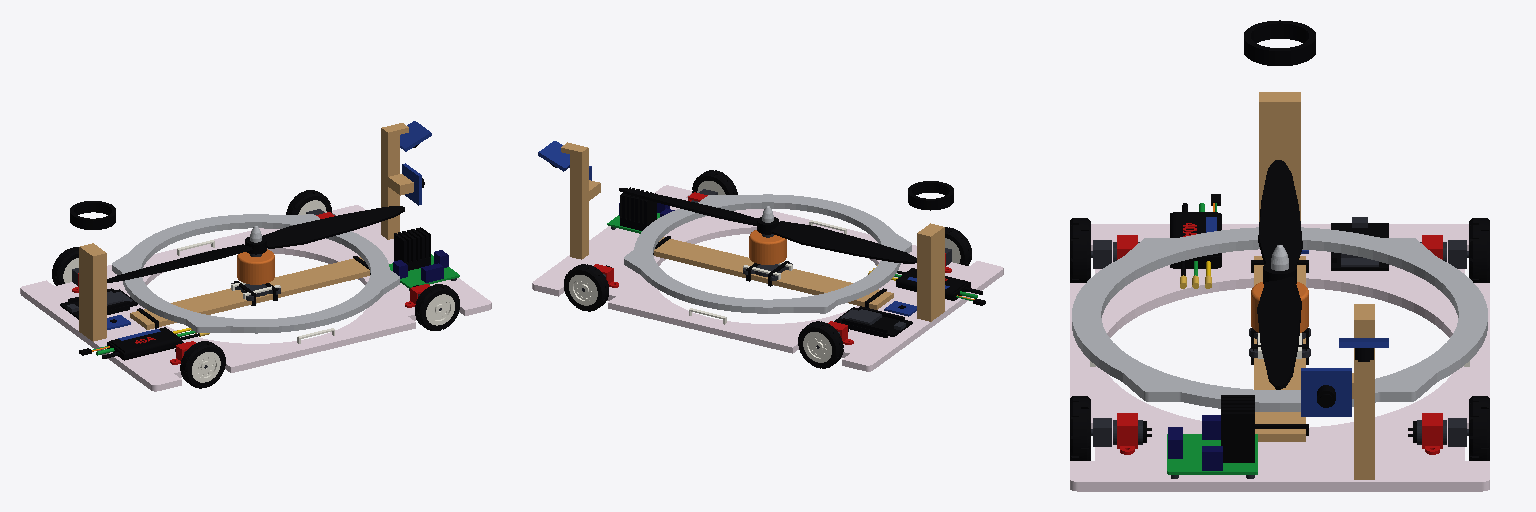
URDF robot description (wcr):
<?xml version="1.0"?>
<!-- Generated by tools/build_proto_webots.py: the WCR prototype (base_link = wall contact plane). Visual only; physics lives in webots/protos/WcrProto.proto. -->
<robot name="wcr">
<material name="c_ef_e0_ea"><color rgba="0.940 0.880 0.920 1"/></material>
<material name="c_c6_9e_6b"><color rgba="0.780 0.620 0.420 1"/></material>
<material name="c_b7_ba_bf"><color rgba="0.720 0.730 0.750 1"/></material>
<material name="c_33_35_3d"><color rgba="0.200 0.210 0.240 1"/></material>
<material name="c_cc_72_33"><color rgba="0.800 0.450 0.200 1"/></material>
<material name="c_0f_0f_11"><color rgba="0.060 0.060 0.070 1"/></material>
<material name="c_ed_ea_e0"><color rgba="0.930 0.920 0.880 1"/></material>
<material name="c_bf_19_19"><color rgba="0.750 0.100 0.100 1"/></material>
<material name="c_19_99_3f"><color rgba="0.100 0.600 0.250 1"/></material>
<material name="c_19_19_59"><color rgba="0.100 0.100 0.350 1"/></material>
<material name="c_26_3f_8c"><color rgba="0.150 0.250 0.550 1"/></material>
<material name="c_d8_b2_4c"><color rgba="0.850 0.700 0.300 1"/></material>
<material name="c_e5_bf_19"><color rgba="0.900 0.750 0.100 1"/></material>
<material name="c_66_3f_1e"><color rgba="0.400 0.250 0.120 1"/></material>
<material name="c_f2_7f_19"><color rgba="0.950 0.500 0.100 1"/></material>
<material name="c_11_11_14"><color rgba="0.070 0.070 0.080 1"/></material>
<link name="base_link"><visual><origin xyz="0 0 0.00750" rpy="0 0 0"/><geometry><mesh filename="package://wcr_proto/meshes/body_0.stl" scale="0.001 0.001 0.001"/></geometry><material name="c_ef_e0_ea"/></visual><visual><origin xyz="0 0 0.00750" rpy="0 0 0"/><geometry><mesh filename="package://wcr_proto/meshes/body_1.stl" scale="0.001 0.001 0.001"/></geometry><material name="c_c6_9e_6b"/></visual><visual><origin xyz="0 0 0.00750" rpy="0 0 0"/><geometry><mesh filename="package://wcr_proto/meshes/body_2.stl" scale="0.001 0.001 0.001"/></geometry><material name="c_b7_ba_bf"/></visual><visual><origin xyz="0 0 0.00750" rpy="0 0 0"/><geometry><mesh filename="package://wcr_proto/meshes/body_3.stl" scale="0.001 0.001 0.001"/></geometry><material name="c_33_35_3d"/></visual><visual><origin xyz="0 0 0.00750" rpy="0 0 0"/><geometry><mesh filename="package://wcr_proto/meshes/body_4.stl" scale="0.001 0.001 0.001"/></geometry><material name="c_cc_72_33"/></visual><visual><origin xyz="0 0 0.00750" rpy="0 0 0"/><geometry><mesh filename="package://wcr_proto/meshes/body_5.stl" scale="0.001 0.001 0.001"/></geometry><material name="c_0f_0f_11"/></visual><visual><origin xyz="0 0 0.00750" rpy="0 0 0"/><geometry><mesh filename="package://wcr_proto/meshes/body_6.stl" scale="0.001 0.001 0.001"/></geometry><material name="c_ed_ea_e0"/></visual><visual><origin xyz="0 0 0.00750" rpy="0 0 0"/><geometry><mesh filename="package://wcr_proto/meshes/body_7.stl" scale="0.001 0.001 0.001"/></geometry><material name="c_bf_19_19"/></visual><visual><origin xyz="0 0 0.00750" rpy="0 0 0"/><geometry><mesh filename="package://wcr_proto/meshes/body_8.stl" scale="0.001 0.001 0.001"/></geometry><material name="c_19_99_3f"/></visual><visual><origin xyz="0 0 0.00750" rpy="0 0 0"/><geometry><mesh filename="package://wcr_proto/meshes/body_9.stl" scale="0.001 0.001 0.001"/></geometry><material name="c_19_19_59"/></visual><visual><origin xyz="0 0 0.00750" rpy="0 0 0"/><geometry><mesh filename="package://wcr_proto/meshes/body_10.stl" scale="0.001 0.001 0.001"/></geometry><material name="c_26_3f_8c"/></visual><visual><origin xyz="0 0 0.00750" rpy="0 0 0"/><geometry><mesh filename="package://wcr_proto/meshes/body_11.stl" scale="0.001 0.001 0.001"/></geometry><material name="c_d8_b2_4c"/></visual><visual><origin xyz="0 0 0.00750" rpy="0 0 0"/><geometry><mesh filename="package://wcr_proto/meshes/body_12.stl" scale="0.001 0.001 0.001"/></geometry><material name="c_e5_bf_19"/></visual><visual><origin xyz="0 0 0.00750" rpy="0 0 0"/><geometry><mesh filename="package://wcr_proto/meshes/body_13.stl" scale="0.001 0.001 0.001"/></geometry><material name="c_66_3f_1e"/></visual><visual><origin xyz="0 0 0.00750" rpy="0 0 0"/><geometry><mesh filename="package://wcr_proto/meshes/body_14.stl" scale="0.001 0.001 0.001"/></geometry><material name="c_f2_7f_19"/></visual></link>
<link name="prop_link"><visual><origin xyz="0 0 0" rpy="0 0 0"/><geometry><mesh filename="package://wcr_proto/meshes/prop_0.stl" scale="0.001 0.001 0.001"/></geometry><material name="c_0f_0f_11"/></visual><visual><origin xyz="0 0 0" rpy="0 0 0"/><geometry><mesh filename="package://wcr_proto/meshes/prop_1.stl" scale="0.001 0.001 0.001"/></geometry><material name="c_b7_ba_bf"/></visual></link>
<joint name="prop_joint" type="continuous"><parent link="base_link"/><child link="prop_link"/><origin xyz="0.00000 0.00000 0.05350" rpy="0.00000 0.00000 0.00000"/><axis xyz="0 0 1"/></joint>
<link name="FL_wheel_link"><visual><origin xyz="0 0 0" rpy="0 0 0"/><geometry><mesh filename="package://wcr_proto/meshes/wheel_0.stl" scale="0.001 0.001 0.001"/></geometry><material name="c_11_11_14"/></visual><visual><origin xyz="0 0 0" rpy="0 0 0"/><geometry><mesh filename="package://wcr_proto/meshes/wheel_1.stl" scale="0.001 0.001 0.001"/></geometry><material name="c_ed_ea_e0"/></visual></link>
<joint name="FL_wheel_joint" type="continuous"><parent link="base_link"/><child link="FL_wheel_link"/><origin xyz="0.10000 0.09500 0.01750" rpy="0.00000 0.00000 0.00000"/><axis xyz="0 1 0"/></joint>
<link name="FR_wheel_link"><visual><origin xyz="0 0 0" rpy="0 0 3.14159"/><geometry><mesh filename="package://wcr_proto/meshes/wheel_0.stl" scale="0.001 0.001 0.001"/></geometry><material name="c_11_11_14"/></visual><visual><origin xyz="0 0 0" rpy="0 0 3.14159"/><geometry><mesh filename="package://wcr_proto/meshes/wheel_1.stl" scale="0.001 0.001 0.001"/></geometry><material name="c_ed_ea_e0"/></visual></link>
<joint name="FR_wheel_joint" type="continuous"><parent link="base_link"/><child link="FR_wheel_link"/><origin xyz="0.10000 -0.09500 0.01750" rpy="0.00000 0.00000 0.00000"/><axis xyz="0 1 0"/></joint>
<link name="BL_wheel_link"><visual><origin xyz="0 0 0" rpy="0 0 0"/><geometry><mesh filename="package://wcr_proto/meshes/wheel_0.stl" scale="0.001 0.001 0.001"/></geometry><material name="c_11_11_14"/></visual><visual><origin xyz="0 0 0" rpy="0 0 0"/><geometry><mesh filename="package://wcr_proto/meshes/wheel_1.stl" scale="0.001 0.001 0.001"/></geometry><material name="c_ed_ea_e0"/></visual></link>
<joint name="BL_wheel_joint" type="continuous"><parent link="base_link"/><child link="BL_wheel_link"/><origin xyz="-0.10000 0.09500 0.01750" rpy="0.00000 0.00000 0.00000"/><axis xyz="0 1 0"/></joint>
<link name="BR_wheel_link"><visual><origin xyz="0 0 0" rpy="0 0 3.14159"/><geometry><mesh filename="package://wcr_proto/meshes/wheel_0.stl" scale="0.001 0.001 0.001"/></geometry><material name="c_11_11_14"/></visual><visual><origin xyz="0 0 0" rpy="0 0 3.14159"/><geometry><mesh filename="package://wcr_proto/meshes/wheel_1.stl" scale="0.001 0.001 0.001"/></geometry><material name="c_ed_ea_e0"/></visual></link>
<joint name="BR_wheel_joint" type="continuous"><parent link="base_link"/><child link="BR_wheel_link"/><origin xyz="-0.10000 -0.09500 0.01750" rpy="0.00000 0.00000 0.00000"/><axis xyz="0 1 0"/></joint>
<link name="lidar_link"/>
<link name="imu_link"/>
<link name="wall_camera_link"/>
<link name="wall_camera_optical"/>
<link name="front_camera_link"/>
<link name="front_camera_optical"/>
<joint name="lidar_joint" type="fixed"><parent link="base_link"/><child link="lidar_link"/><origin xyz="-0.13900 0.00000 0.11000" rpy="0.00000 0.00000 0.00000"/></joint>
<joint name="imu_joint" type="fixed"><parent link="base_link"/><child link="imu_link"/><origin xyz="-0.11800 0.00600 0.01650" rpy="0.00000 0.00000 0.00000"/></joint>
<joint name="wall_camera_joint" type="fixed"><parent link="base_link"/><child link="wall_camera_link"/><origin xyz="0.15500 0.04000 0.09000" rpy="0.00000 1.22173 0.00000"/></joint>
<joint name="wall_camera_optical_joint" type="fixed"><parent link="wall_camera_link"/><child link="wall_camera_optical"/><origin xyz="0.00000 0.00000 0.00000" rpy="-1.57080 0.00000 -1.57080"/></joint>
<joint name="front_camera_joint" type="fixed"><parent link="base_link"/><child link="front_camera_link"/><origin xyz="0.14600 0.02200 0.06000" rpy="0.00000 0.00000 0.00000"/></joint>
<joint name="front_camera_optical_joint" type="fixed"><parent link="front_camera_link"/><child link="front_camera_optical"/><origin xyz="0.00000 0.00000 0.00000" rpy="-1.57080 0.00000 -1.57080"/></joint>
</robot>

--- Facts derived from the render (not from the file) ---
3 views of the same robot in one strip: view 1: azimuth 30°, elevation 25°; view 2: azimuth 150°, elevation 25°; view 3: azimuth 270°, elevation 25° (orthographic).
Robot: wcr — 12 links, 11 joints (5 continuous, 6 fixed); root link base_link; default pose: all joints at 0.
Links seen in each view (by area): view 1: base_link, prop_link, BR_wheel_link, FR_wheel_link, FL_wheel_link, BL_wheel_link; view 2: base_link, prop_link, BL_wheel_link, FL_wheel_link, FR_wheel_link, BR_wheel_link; view 3: base_link, prop_link, FL_wheel_link, FR_wheel_link, BL_wheel_link, BR_wheel_link.
Link boxes in pixels (bbox=[...]): base_link: bbox=[20, 121, 491, 391]; prop_link: bbox=[107, 206, 404, 282]; BR_wheel_link: bbox=[180, 341, 225, 388]; FR_wheel_link: bbox=[415, 284, 459, 330]; FL_wheel_link: bbox=[286, 190, 331, 214]; BL_wheel_link: bbox=[52, 247, 78, 285]; base_link: bbox=[532, 141, 1003, 371]; prop_link: bbox=[619, 188, 916, 263]; BL_wheel_link: bbox=[798, 321, 843, 368]; FL_wheel_link: bbox=[564, 264, 608, 311]; FR_wheel_link: bbox=[692, 170, 737, 194]; BR_wheel_link: bbox=[945, 227, 971, 265]; base_link: bbox=[1070, 20, 1489, 491]; prop_link: bbox=[1257, 160, 1302, 389]; FL_wheel_link: bbox=[1469, 396, 1489, 460]; FR_wheel_link: bbox=[1070, 396, 1090, 460]; BL_wheel_link: bbox=[1469, 218, 1489, 282]; BR_wheel_link: bbox=[1070, 218, 1090, 282].
Size in the robot's own frame: 0.3338 by 0.2 by 0.114 metres.
Meshes: 19 distinct files referenced, 24 mesh visuals loaded (18 binary STL); not drawn: 1 (reference not matched to a file when rendering).
